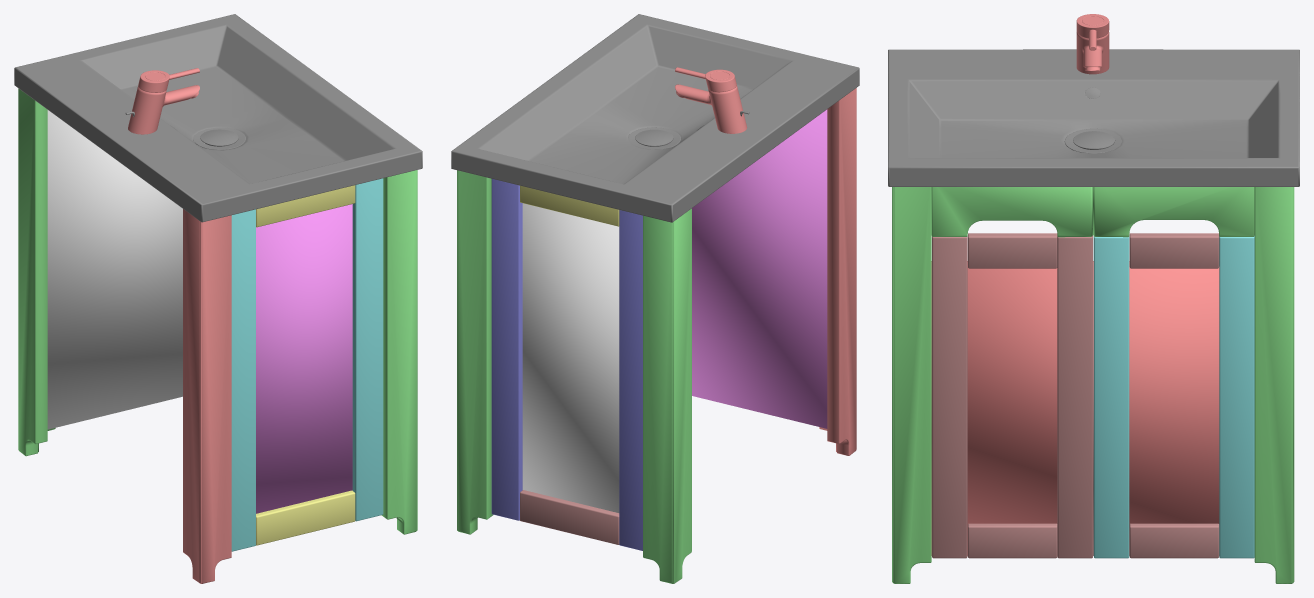
File: sink.fbx
3 renders of one model, left to right at view 1: azimuth 30°, elevation 25°; view 2: azimuth 150°, elevation 25°; view 3: azimuth 270°, elevation 25°, orthographic. The views are drawn at different scales.
Visible parts, largest first — view 1: sink; view 2: sink; view 3: sink.
Boxes of the visible parts, x1,y1,x2,y2 form: sink: [14, 14, 422, 583]; sink: [451, 14, 859, 583]; sink: [888, 14, 1299, 583].
Size of the model in its own units: 83.44 by 155 by 123.
